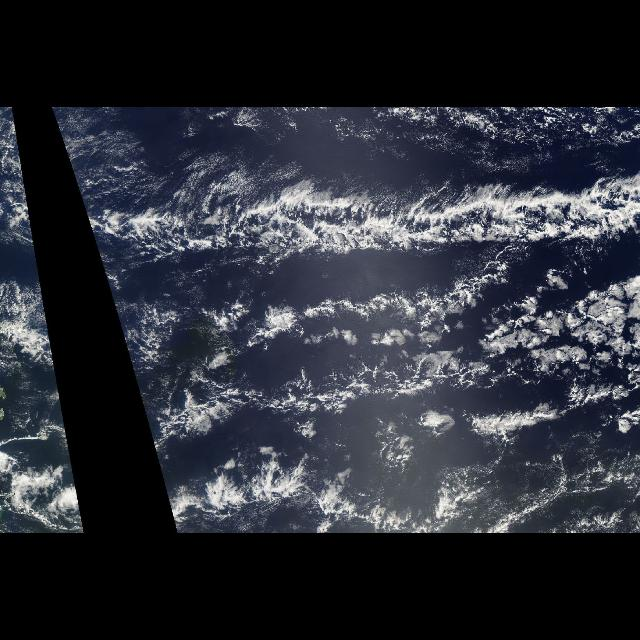Fish: (75, 119, 640, 533), (7, 452, 84, 532)
Sugar: (49, 108, 310, 212), (1, 108, 30, 212)
